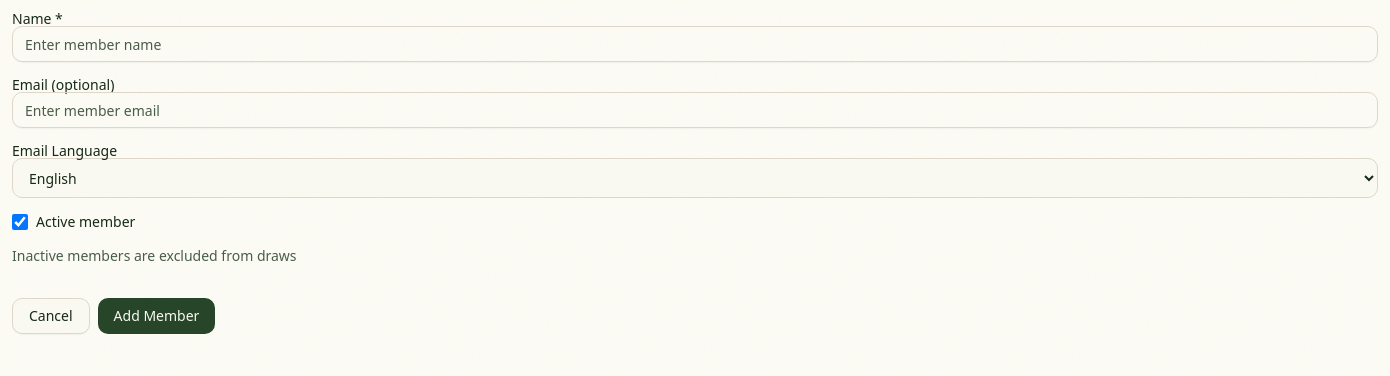
Test case: MemberForm › Error Handling › displays email_conflict_in_group error
The width and height of the screenshot is (1390, 376).
Type "Alice" into the field labelled "Name *" at (695, 44), box [12,26,1378,62]
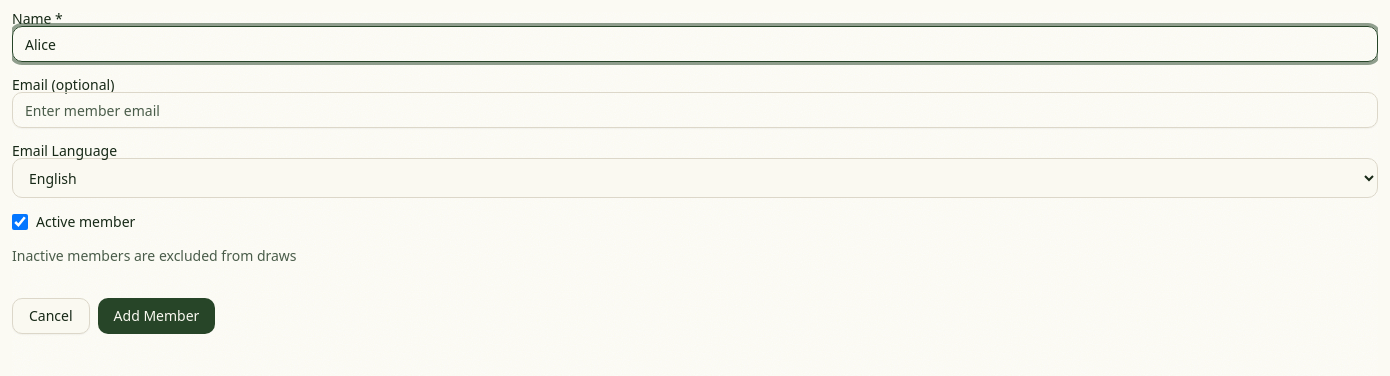
Type "alice@example.com" into the field labelled "Email (optional)" at (695, 110), box [12,92,1378,128]
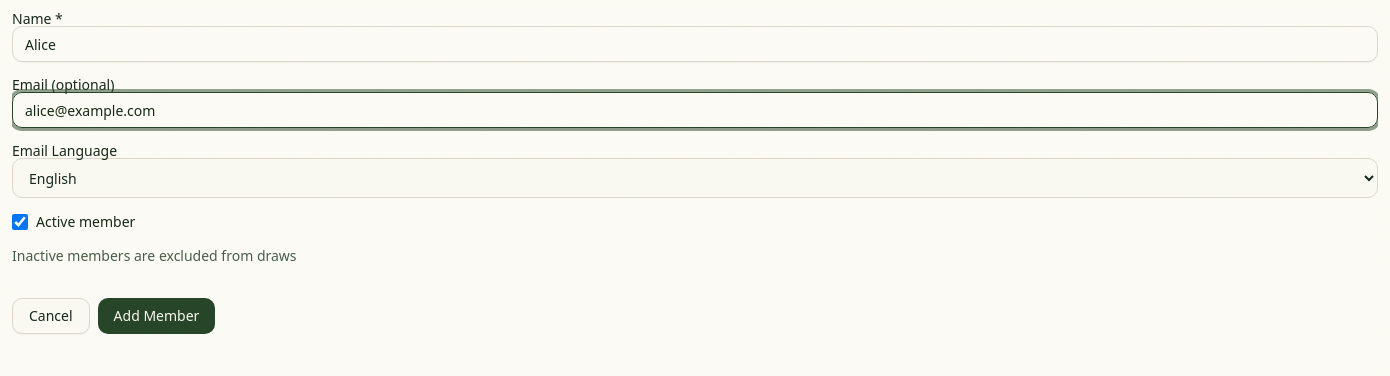
Click the button "Add Member" at (156, 316), box [98,298,215,334]
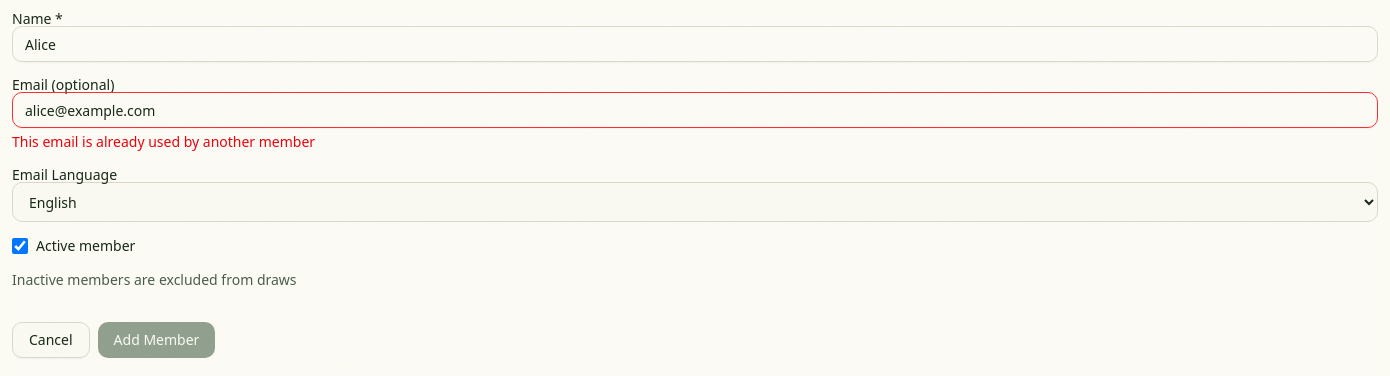
Expected: the text "This email is already used by another member" is shown, [12,132,315,151]
